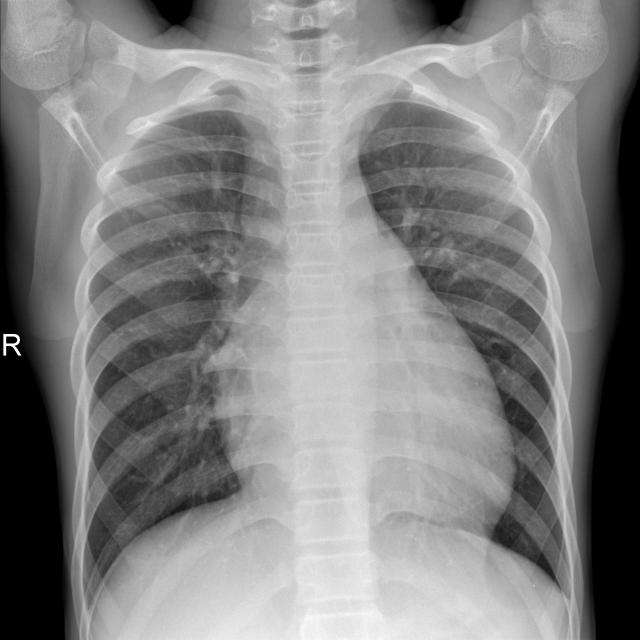no-pneumonia: (360, 102, 566, 584), (84, 111, 253, 585)
